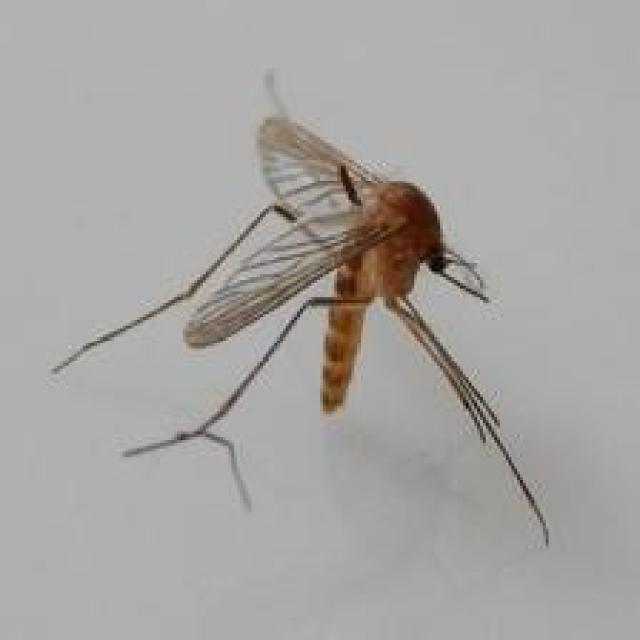Culex: (50, 67, 550, 547)
